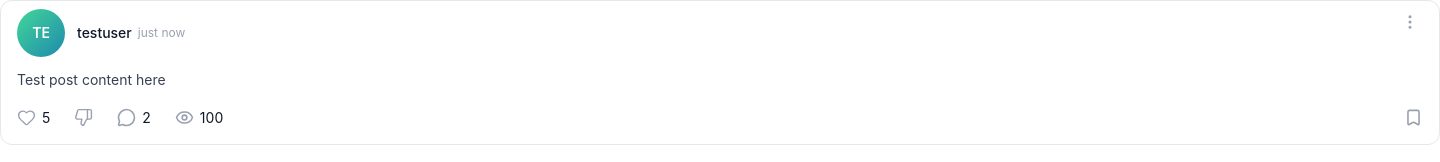
PostCard › opens dropdown with Edit and Delete on menu click
What coordinates should you click on to do the following:
click the button named "Post options"
I would click on:
 (1410, 22)
Its box is [1397,9,1423,35].
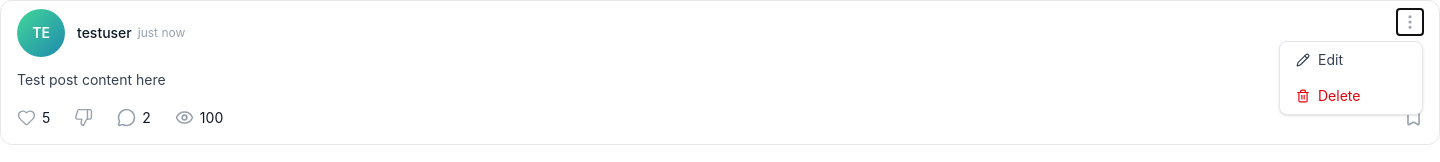
Result: the button "Edit" is shown at [1280,42,1422,78]
Result: the button "Delete" is shown at [1280,78,1422,114]
